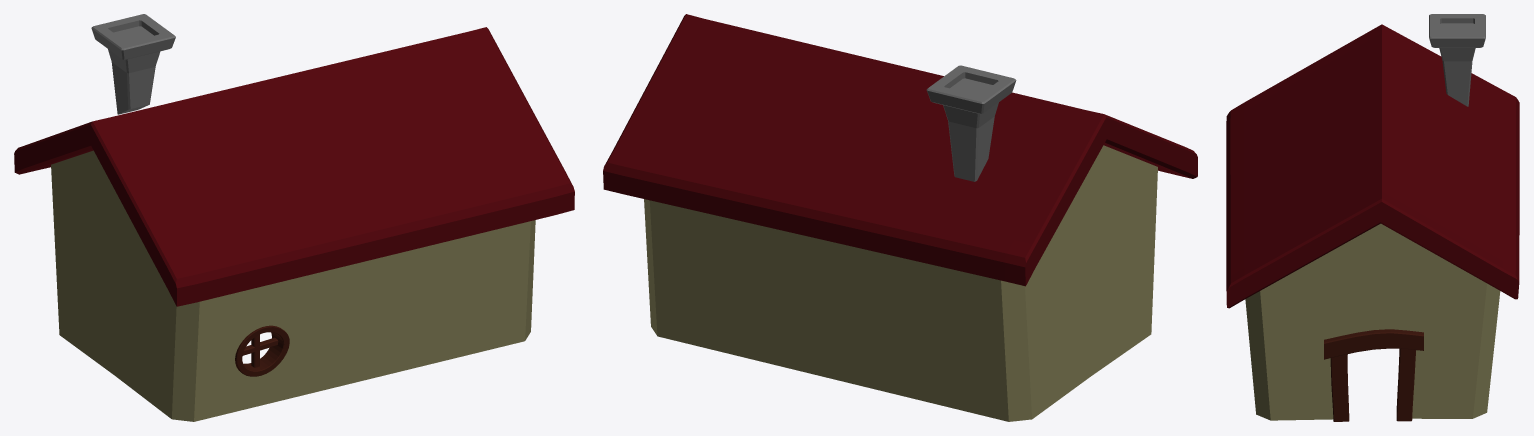
The model's file is House.fbx.
The picture shows the model from 3 angles, left to right: view 1: azimuth 30°, elevation 25°; view 2: azimuth 150°, elevation 25°; view 3: azimuth 270°, elevation 25°; orthographic projection. The views are drawn at different scales.
Visible parts, largest first — view 1: House; view 2: House; view 3: House.
Boxes of the visible parts, left/top/right/bottom form: House: left=14, top=14, right=574, bottom=421; House: left=603, top=14, right=1197, bottom=421; House: left=1226, top=14, right=1519, bottom=421.
Size of the model in its own units: 10269 by 7306 by 7290.
